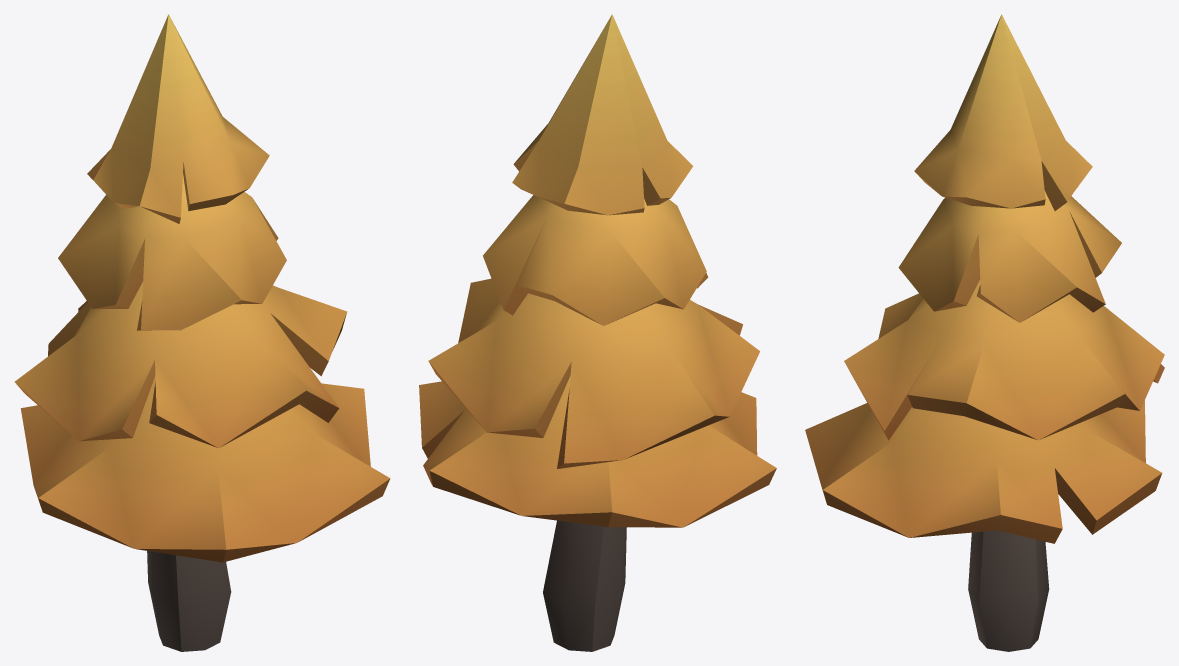
Rendered from d_kaykit_sapin_dore.glb.
3 renders of one model, left to right at view 1: azimuth 30°, elevation 25°; view 2: azimuth 150°, elevation 25°; view 3: azimuth 270°, elevation 25°, orthographic. The views are drawn at different scales.
Visible parts, largest first — view 1: d_kaykit_sapin_dore; view 2: d_kaykit_sapin_dore; view 3: d_kaykit_sapin_dore.
Part boxes in pixels (left/top/right/bottom): d_kaykit_sapin_dore: left=14, top=14, right=390, bottom=651; d_kaykit_sapin_dore: left=419, top=14, right=776, bottom=651; d_kaykit_sapin_dore: left=805, top=14, right=1164, bottom=651.
Bounding box in the file's own units: 3.33 × 5.87 × 3.12.
Materials: 1 (1 with a texture image).
